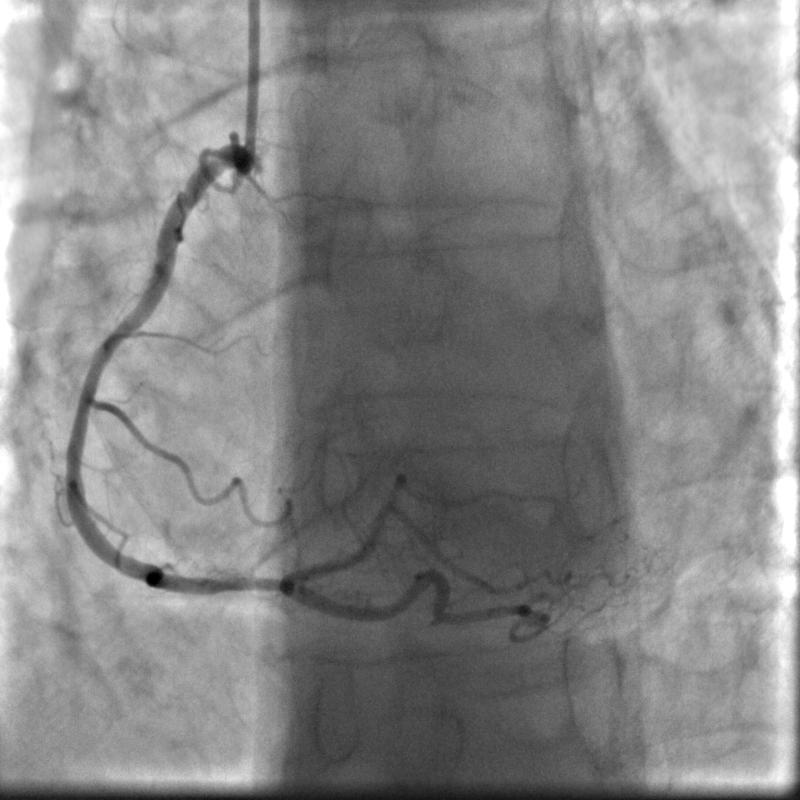Stenosis: (206, 564, 278, 604)
